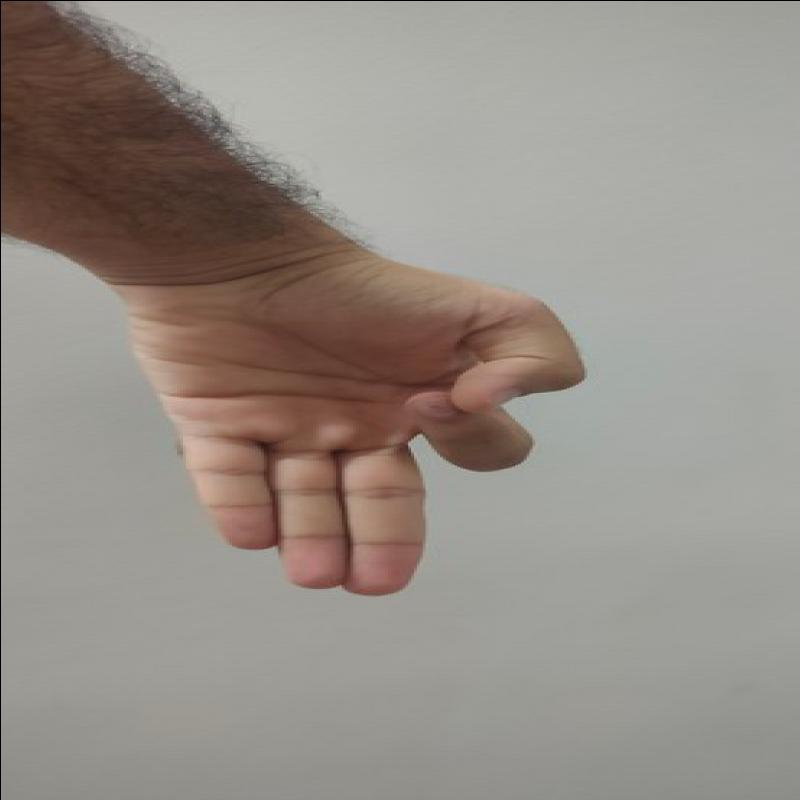Mudraakhyam: (111, 251, 602, 607)
